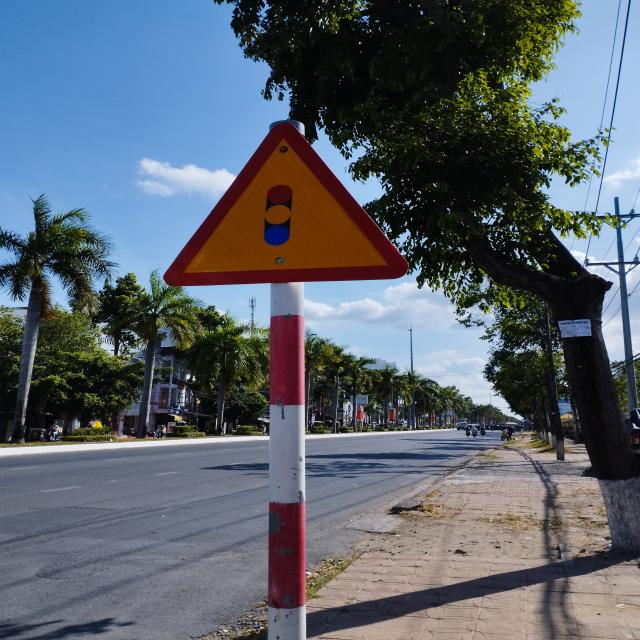Duong_Co_Go_Giam_Toc: (165, 119, 409, 288)
